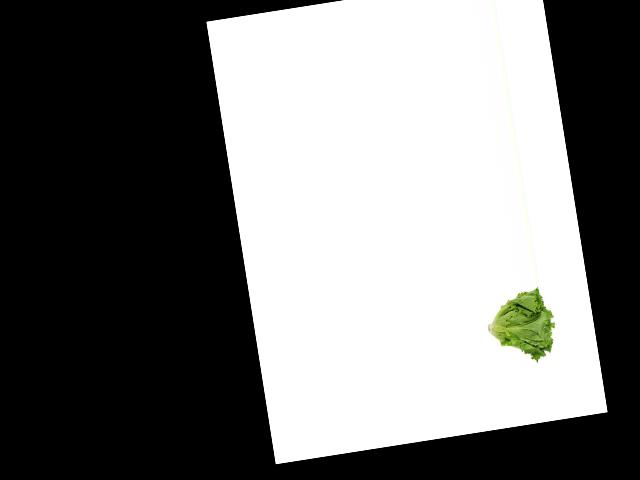lettuce: (481, 284, 562, 366)
